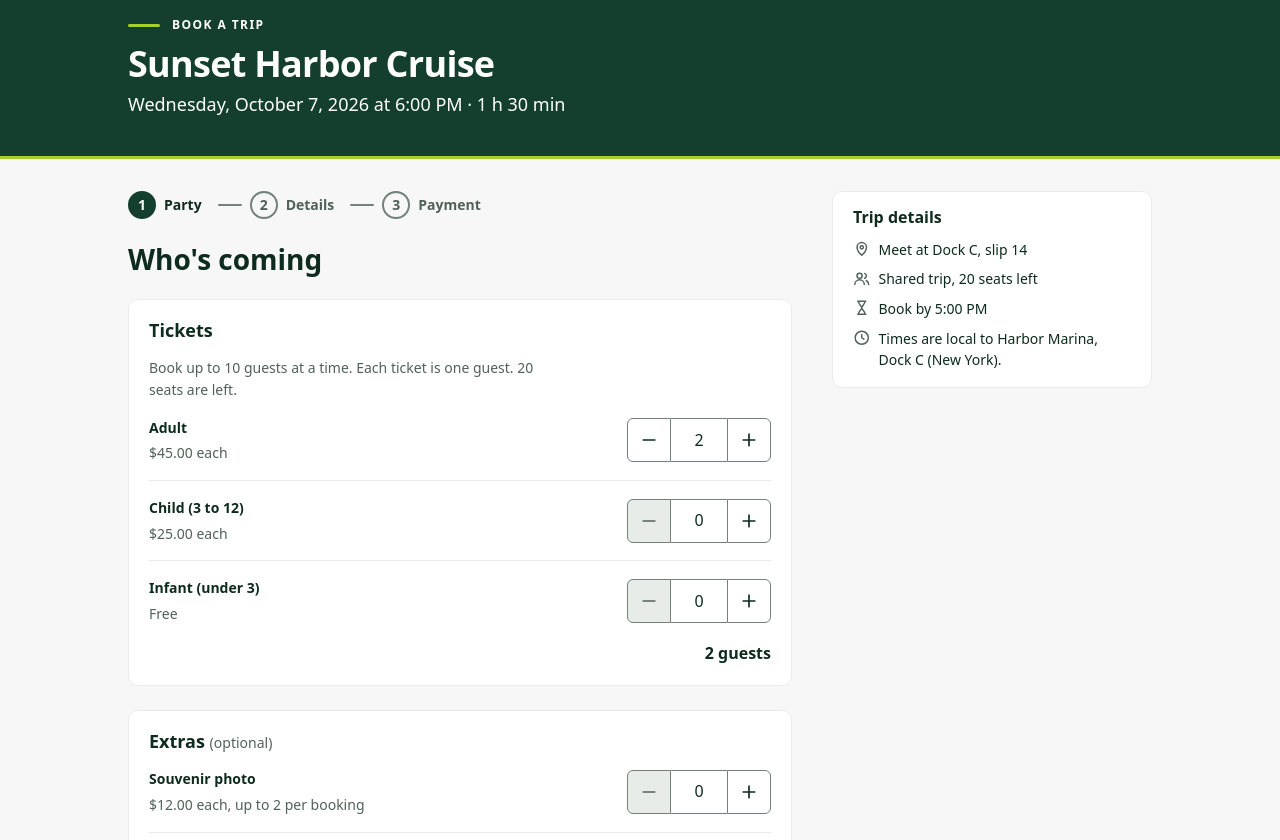
Test case: choosing the party › limits a per-guest add-on by the party, and lowers it when the party shrinks
Click the button named "Remove one Adult ticket" at (649, 440), box [627,418,671,462]
(page scrolled)
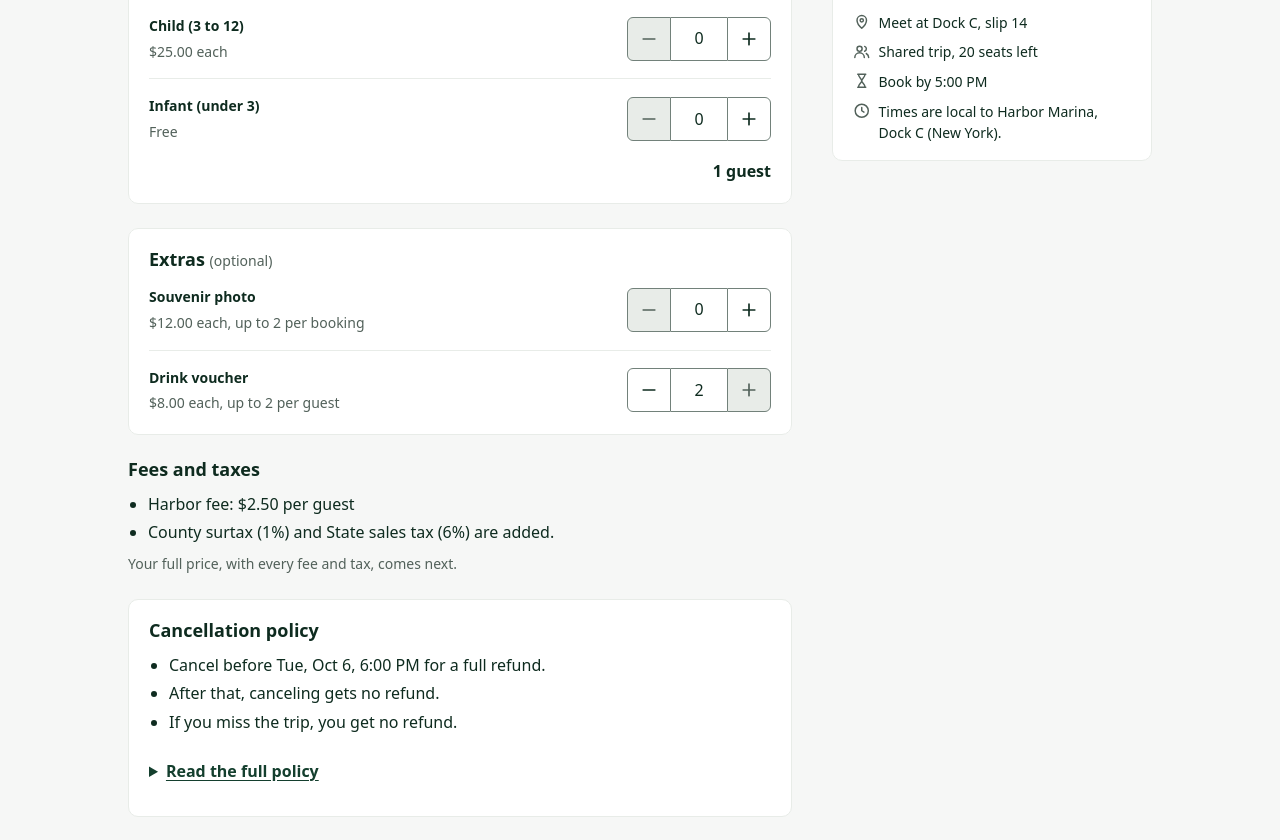
Result: the number field labelled "Drink voucher" holds "2" at [671,368,727,412]
